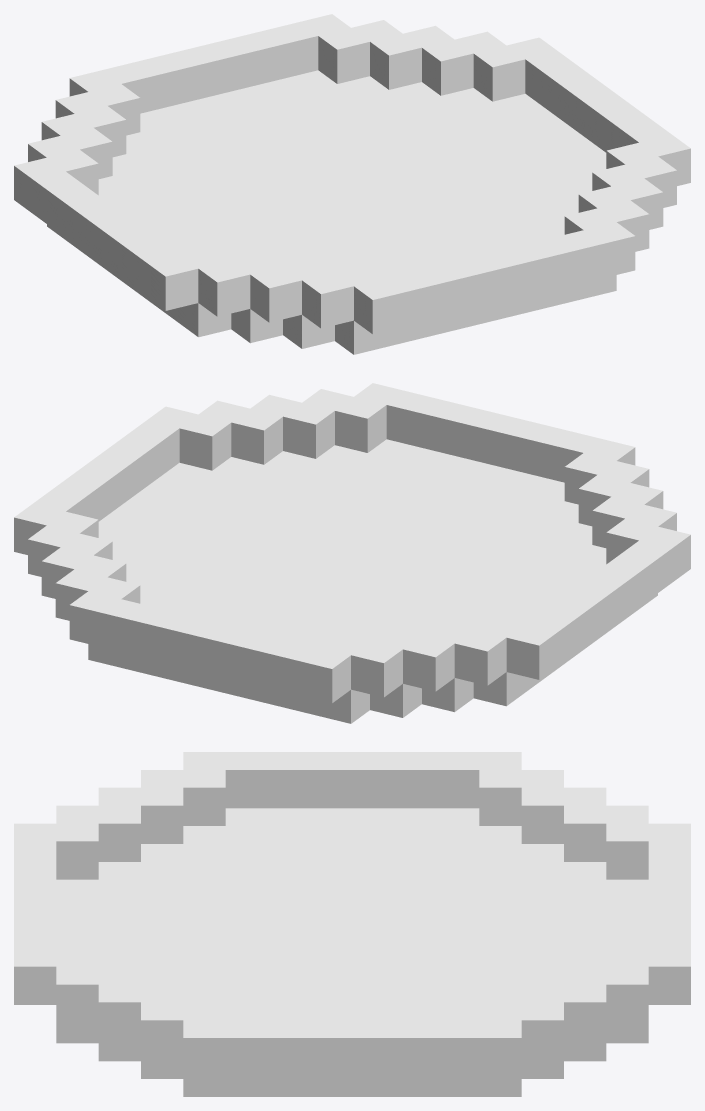
Rendered from Plate.dae.
3 views of the same model, one above another, from view 1: azimuth 30°, elevation 25°; view 2: azimuth 150°, elevation 25°; view 3: azimuth 270°, elevation 25° (orthographic). The views are drawn at different scales.
Parts seen in each view (by area): view 1: Plate; view 2: Plate; view 3: Plate.
Part boxes in pixels (x1,y1,x2,y2): Plate: (14,14,690,354); Plate: (14,383,690,723); Plate: (14,752,690,1096).
Size of the model in its own units: 16 by 2 by 16.
Materials: 1 (1 with a texture image).
